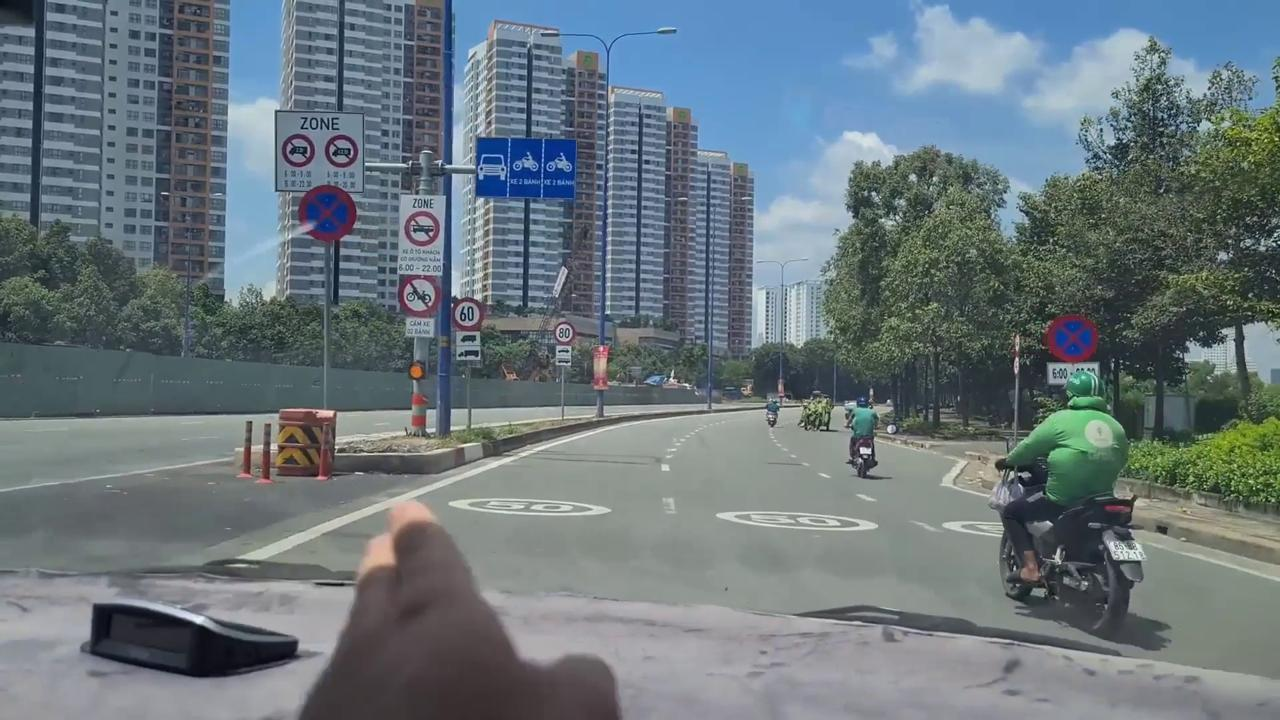Biển phụ: (1045, 361, 1101, 387), (454, 330, 482, 362), (404, 317, 435, 338), (552, 344, 572, 367)
Cấm cac phương tiện hoạt động trong khung giờ cố định: (272, 109, 367, 194), (396, 192, 446, 276)
Cấm dừng - Cấm đỗ: (298, 182, 358, 244), (1044, 310, 1100, 363)
Cấm xe máy: (397, 273, 444, 319)
GIơi hạn tốc độ 60Km/h: (452, 295, 486, 332)
Giới hạn tốc độ 80Km/h: (552, 320, 576, 346)
Làn đường cho từng xe: (474, 136, 576, 200)
